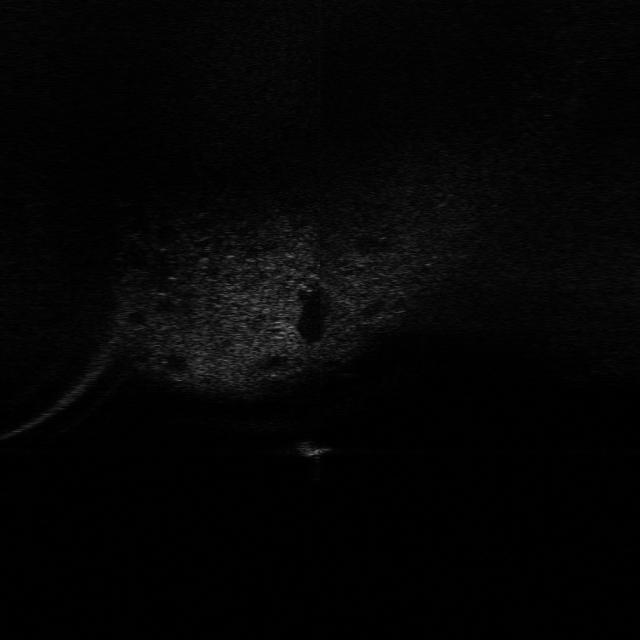cube: (290, 437, 334, 459)
